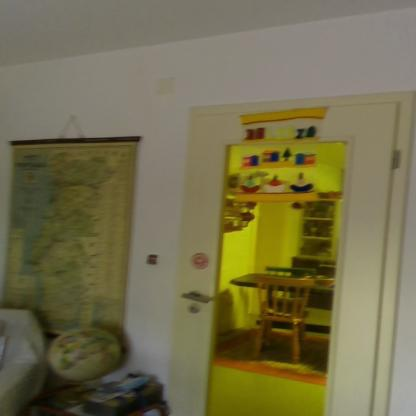door: (176, 108, 396, 416)
hinged: (389, 147, 402, 172)
lever: (182, 291, 218, 308)
